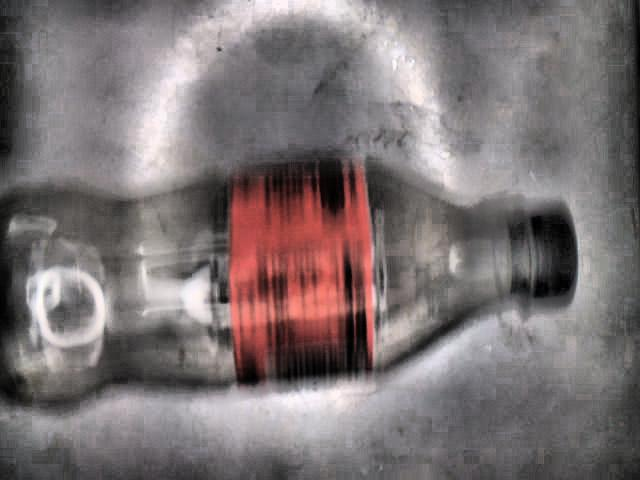Bottles: (0, 166, 580, 415)
